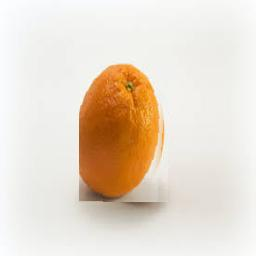Orange Fresh: (79, 58, 168, 203)
